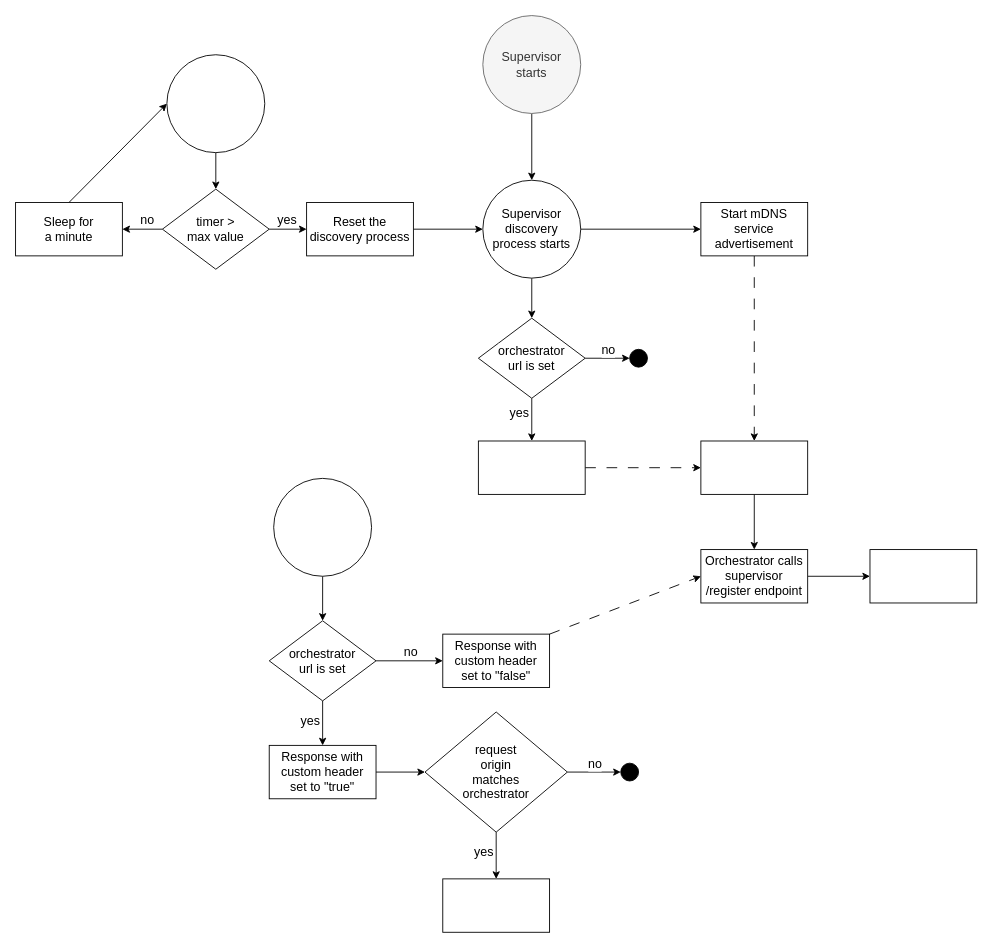
Some shapes in this 992 by 948 pixel diagram are drawn without their labels. The shapes that lost their labels are listed below. From the top down, each one's box as (x1, y1, x2, y2) in pixels, then its label:
(166, 54, 265, 153): Discovery timer check
(477, 440, 585, 494): Register to orchestrator with POST request
(700, 440, 808, 494): Orchestrator discovers the supervisor
(273, 477, 372, 576): Incoming health check to supervisor
(869, 549, 977, 603): Set orchestror url to the supervisor
(442, 878, 550, 932): Rest discovery reset timer
